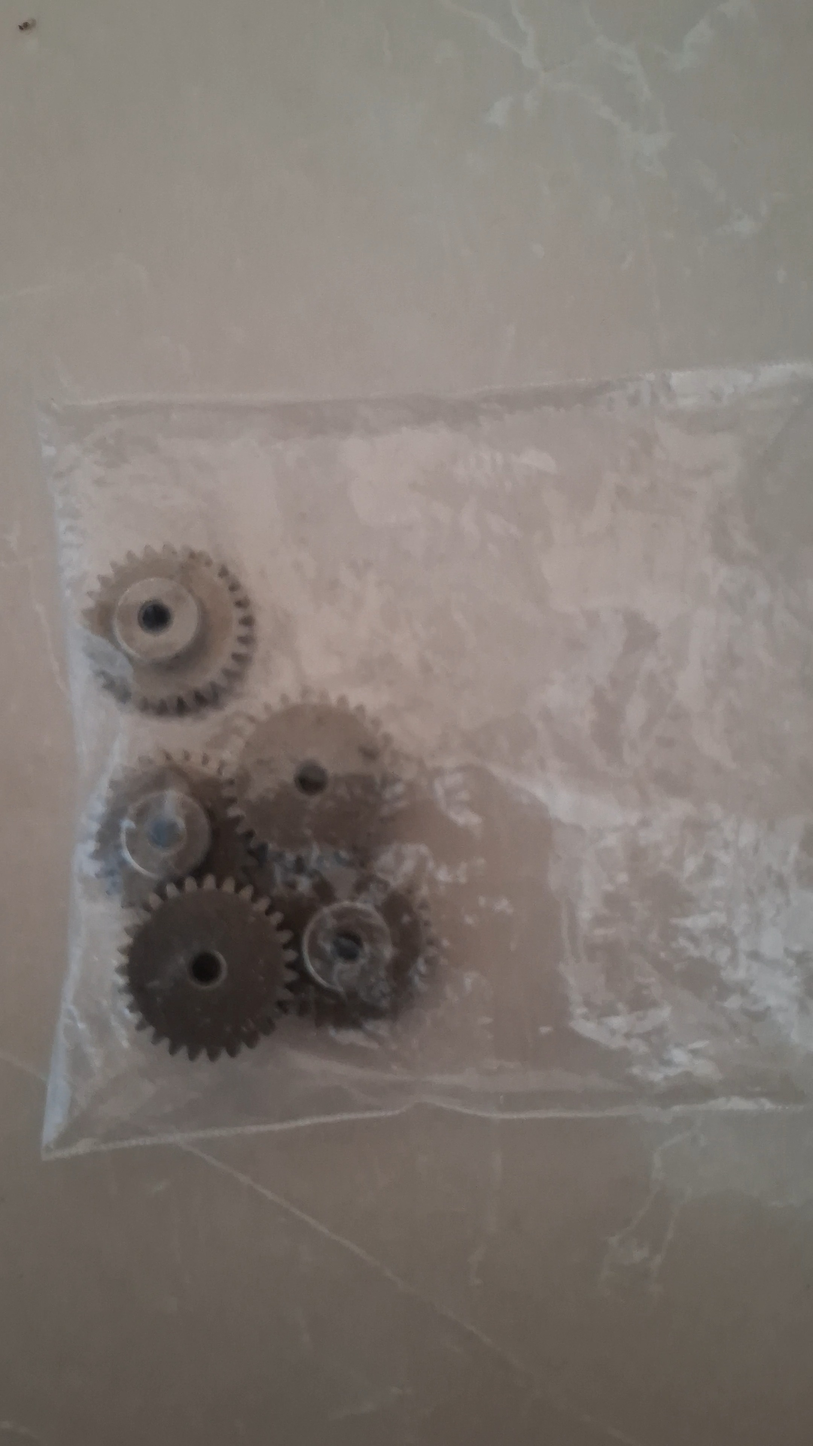spur gear: (119, 876, 295, 1060), (84, 546, 253, 713), (234, 699, 399, 860), (272, 866, 438, 1024), (94, 751, 250, 904)
